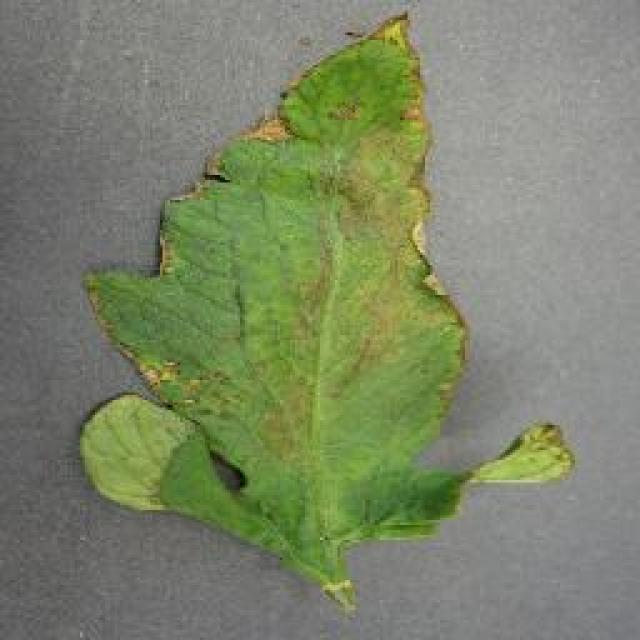Tomato bacterial spot leaf: (90, 16, 575, 609)
